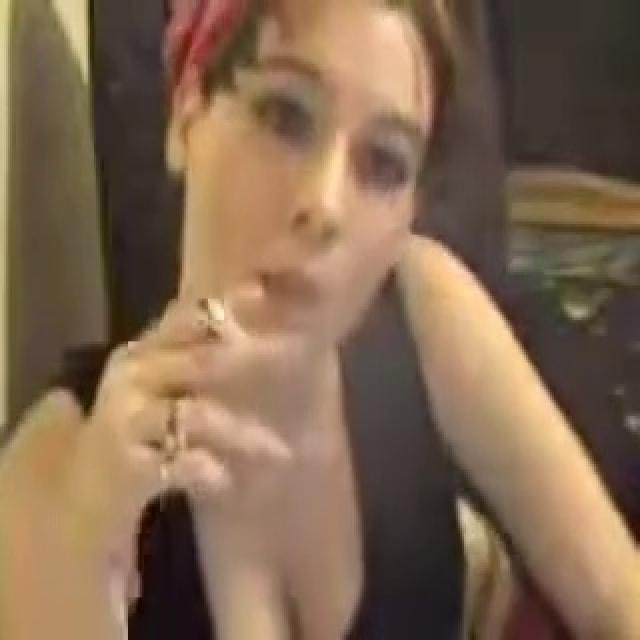Cigarette: (192, 294, 246, 343)
Hand: (74, 279, 296, 533)
Mouth: (253, 261, 323, 307)
